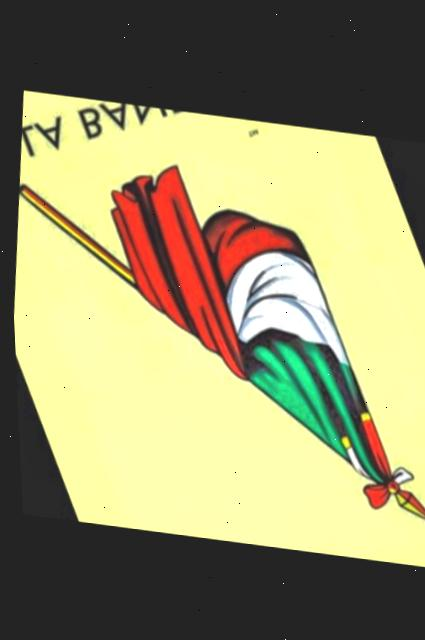La Bandera: (11, 91, 425, 559)
